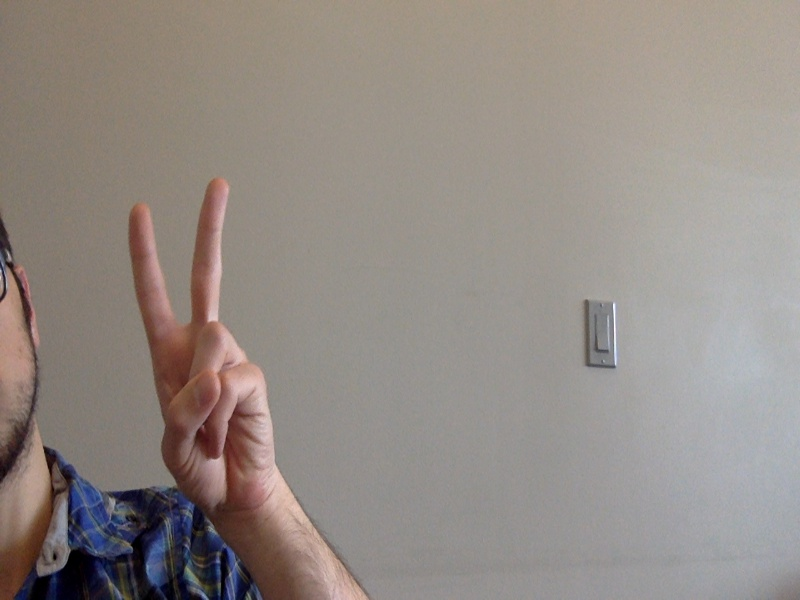2-hand: (129, 177, 278, 516)
